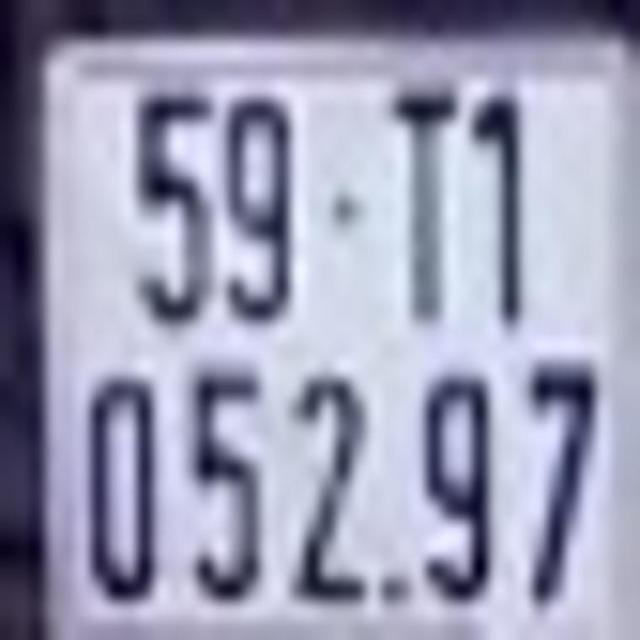0: (89, 378, 157, 599)
1: (474, 92, 526, 326)
2: (294, 375, 370, 602)
5: (133, 92, 214, 324), (193, 371, 263, 599)
7: (528, 365, 598, 605)
9: (224, 95, 294, 321), (421, 377, 491, 600)
T: (393, 90, 458, 324)
